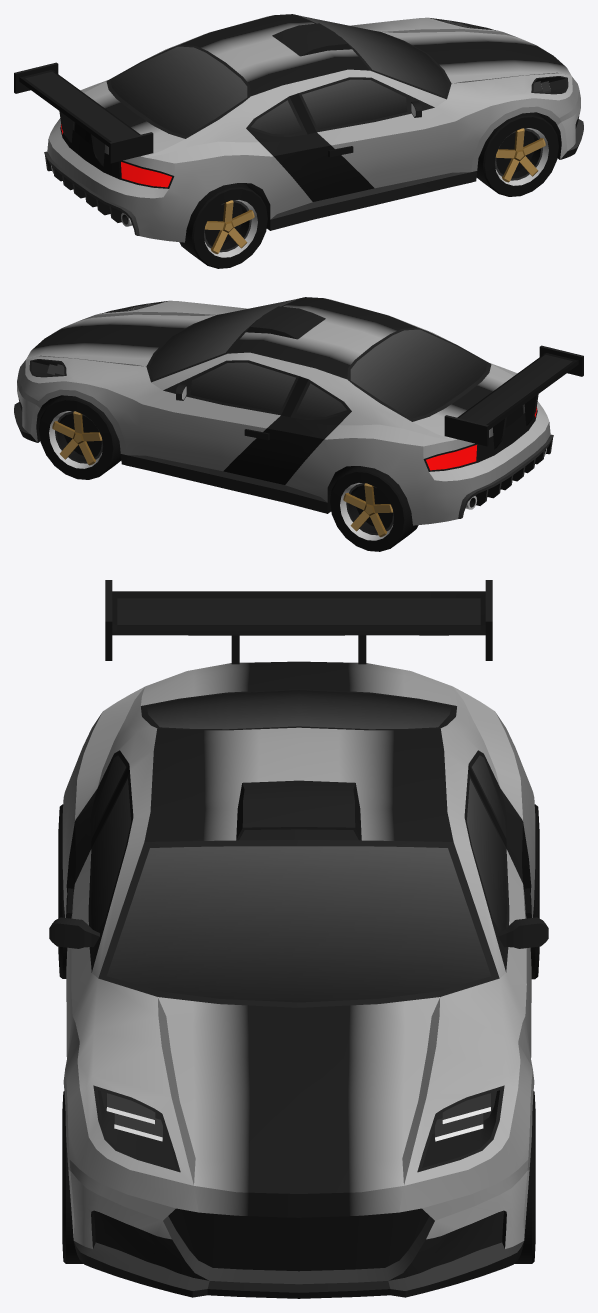
The model's file is Car_205.glb.
3 views of the same model, one above another, from view 1: azimuth 30°, elevation 25°; view 2: azimuth 150°, elevation 25°; view 3: azimuth 270°, elevation 25° (orthographic). The views are drawn at different scales.
Parts seen in each view (by area): view 1: Car_205, wheel_3_Car_205_Wheel_2R, wheel_1_Car_205_Wheel_1R; view 2: Car_205, wheel_2_Car_205_Wheel_2L, wheel_0_Car_205_Wheel_1L; view 3: Car_205, wheel_0_Car_205_Wheel_1L, wheel_1_Car_205_Wheel_1R.
Boxes of the visible parts, x1,y1,x2,y2 form: Car_205: (14, 14, 583, 242); wheel_3_Car_205_Wheel_2R: (179, 183, 267, 268); wheel_1_Car_205_Wheel_1R: (476, 112, 558, 196); Car_205: (14, 297, 583, 525); wheel_2_Car_205_Wheel_2L: (330, 466, 418, 551); wheel_0_Car_205_Wheel_1L: (39, 395, 121, 479); Car_205: (49, 580, 548, 1298); wheel_0_Car_205_Wheel_1L: (514, 1091, 535, 1263); wheel_1_Car_205_Wheel_1R: (62, 1091, 83, 1263).
Bounding box in the file's own units: 4.55 × 1.36 × 1.98.
2 materials, 2 textured.
